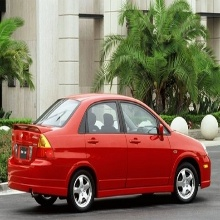no damage: (5, 92, 211, 212)
